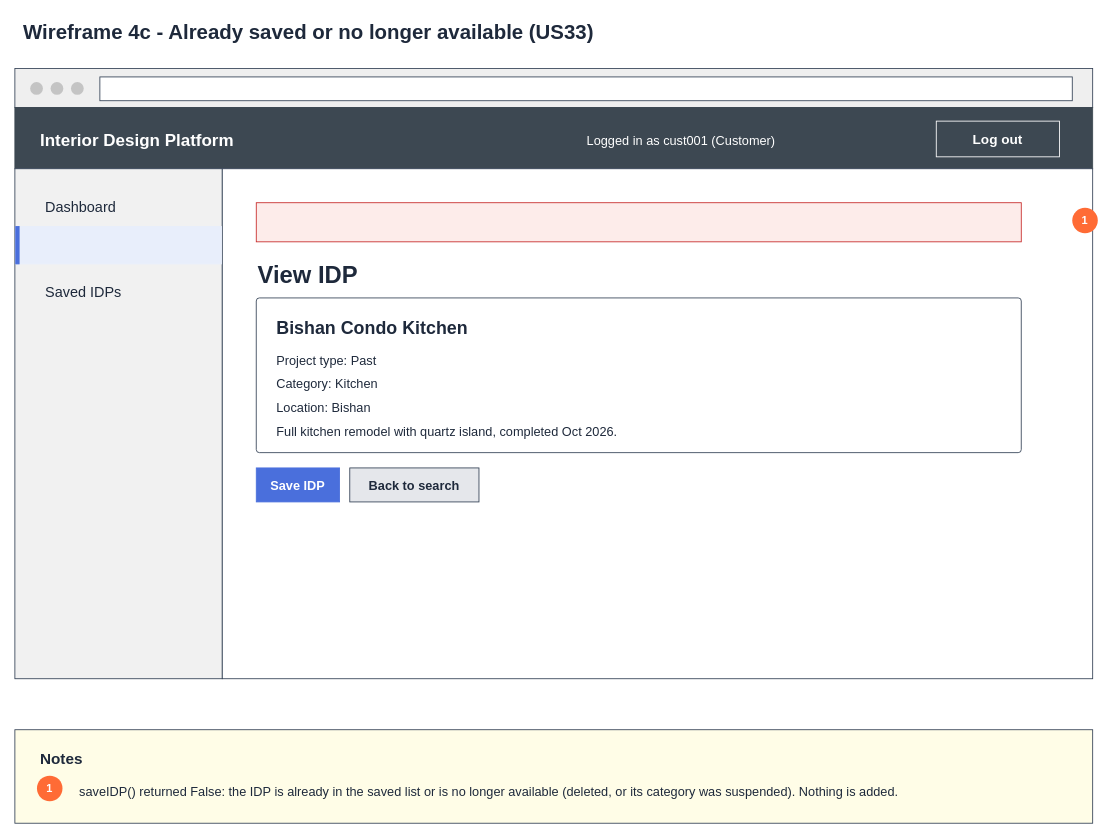
This 1113x838 diagram has some shape labels left out. The shapes that lost their labels are listed below. From the top down, each one's centre as x and y in pixels, then its label:
At [585,88]: "localhost:5000/customer/idps/2?saved=1".
At [638,222]: "This IDP is already in your saved list or is no longer available".
At [118,245]: "Search IDPs".
